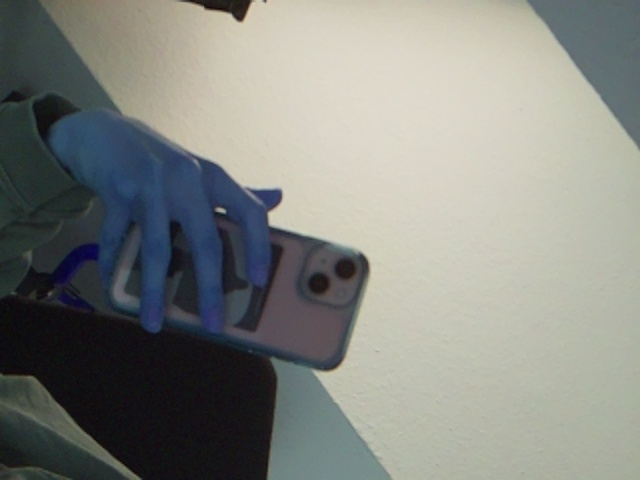cell phone: (114, 173, 383, 375)
